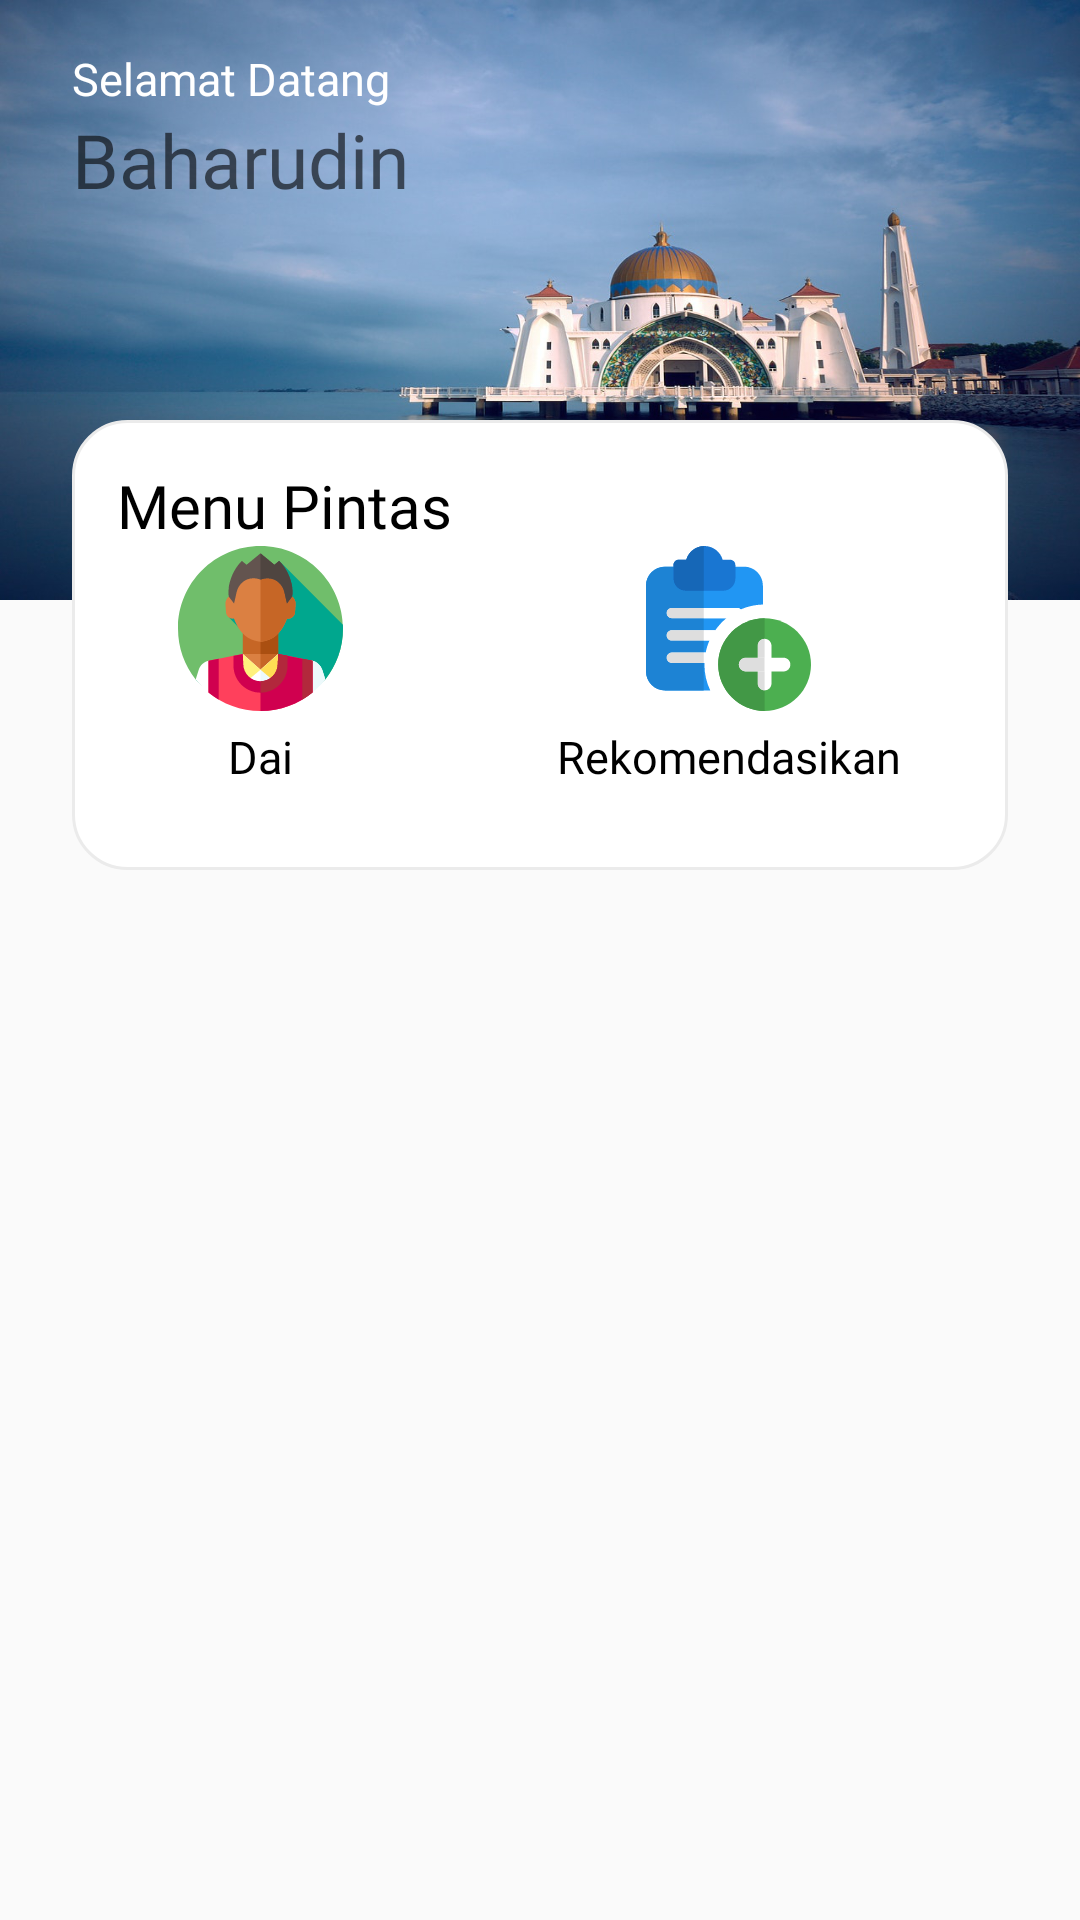

Icons on this 1080×1920 Android screen, each with the point to tap as (x,y):
add: (728,628)
man: (260,628)
